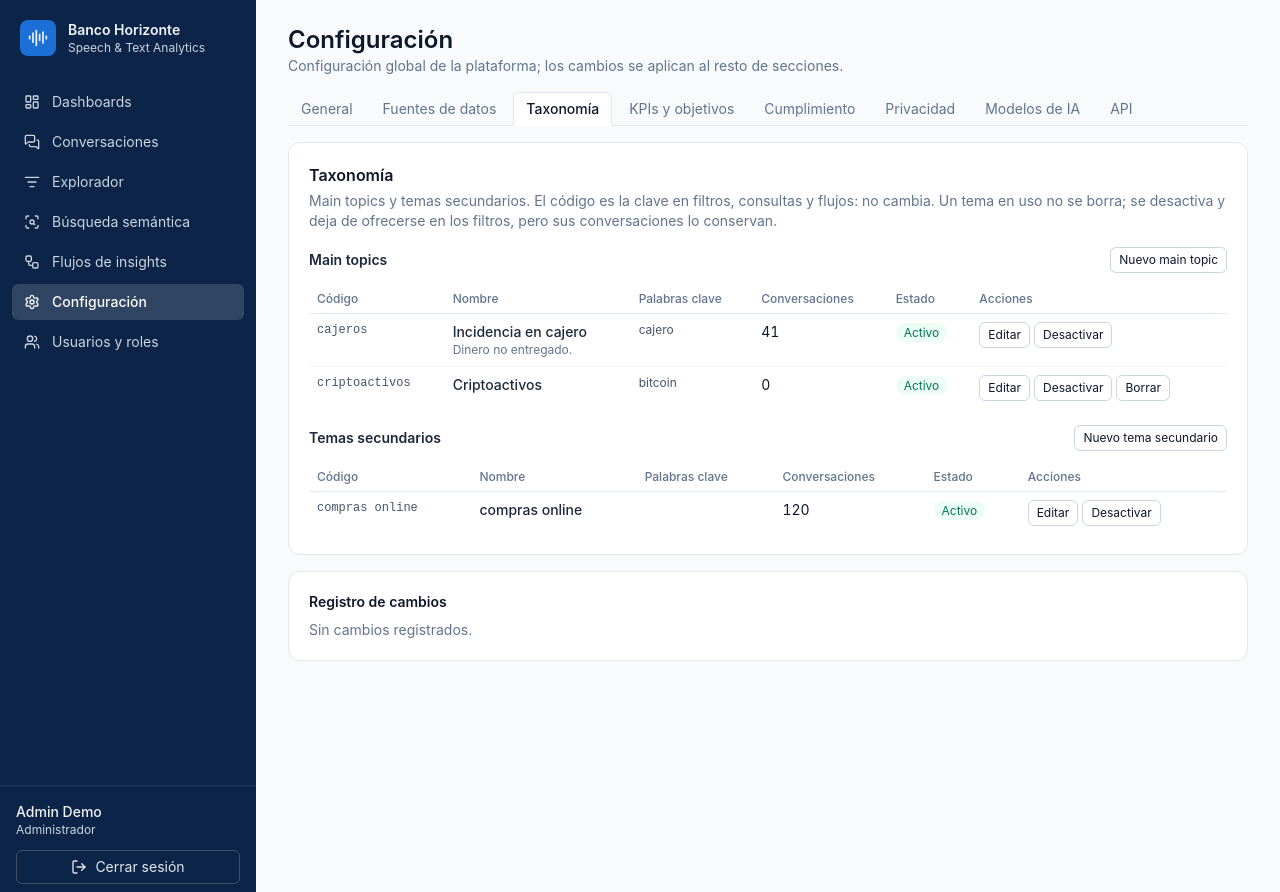
Test: Configuración: Taxonomía › al editar, el código no se puede cambiar y los errores salen junto al campo
This screenshot has width=1280, height=892.
Click the button "Editar" in the row of "cajeros".
click(1005, 335)  # box [979,322,1030,348]
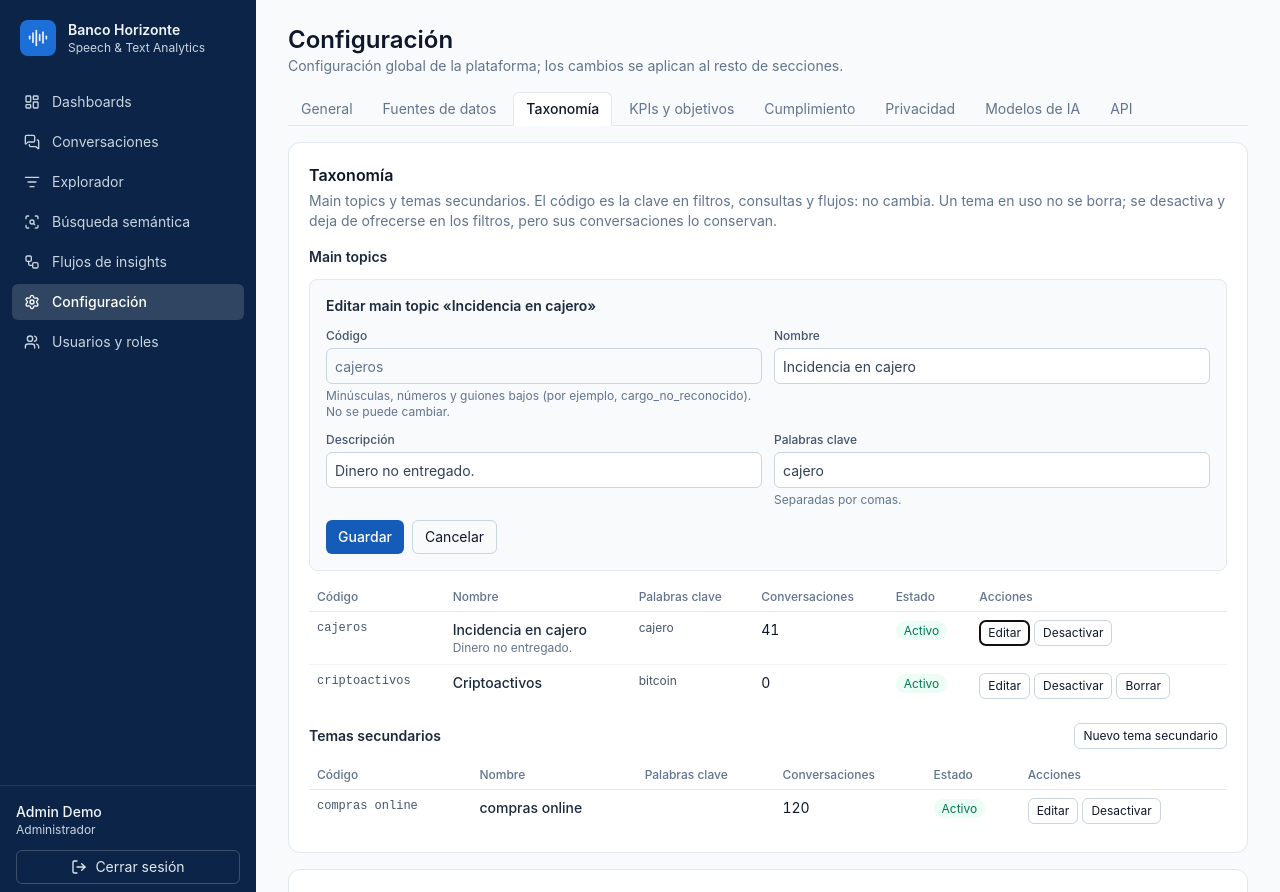
Check: the field labelled "Código" is disabled, box [326,348,762,384]
Replace the text in the field labelled "Nombre" with "Criptoactivos" at [992, 366], box [774,348,1210,384]
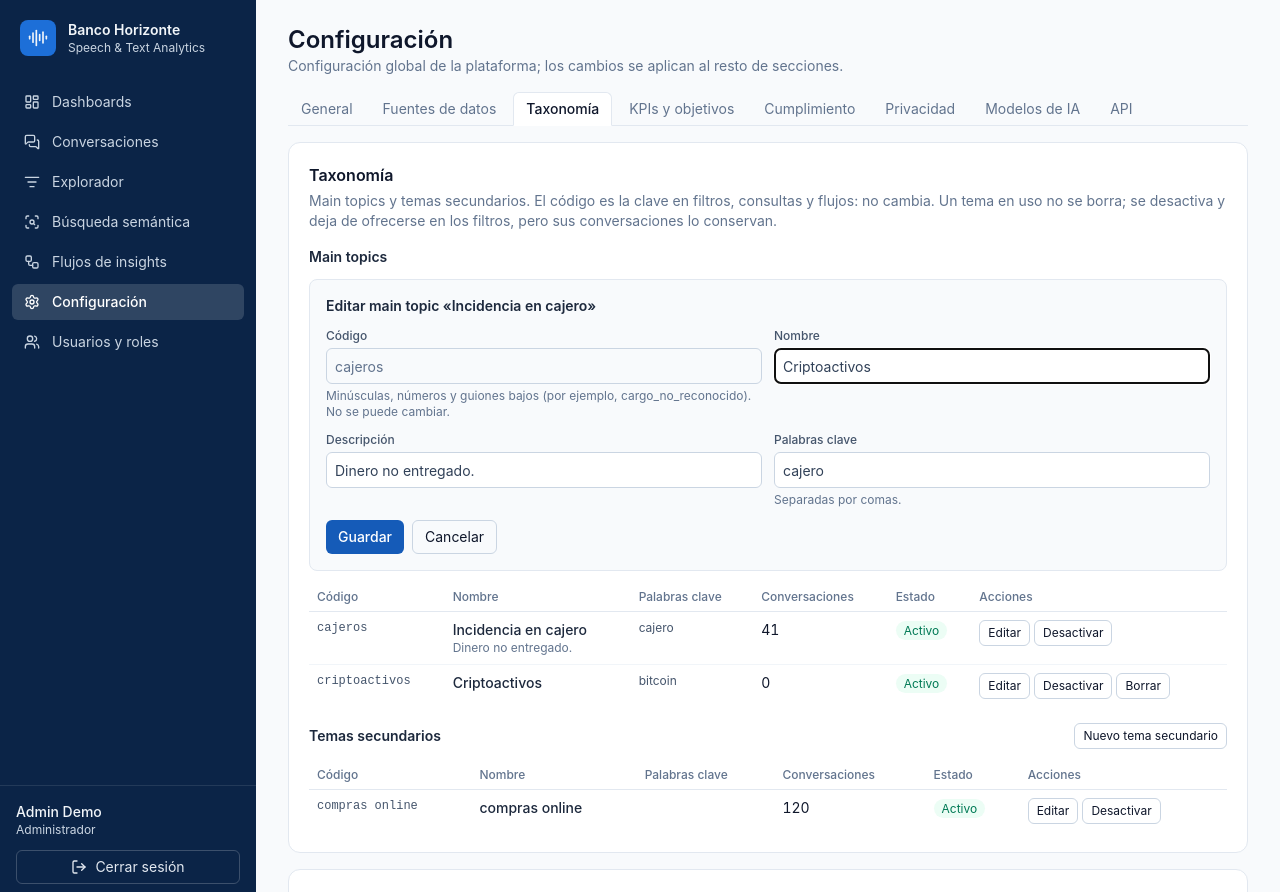
Click the button "Guardar".
click(365, 537)  # box [326,520,404,554]
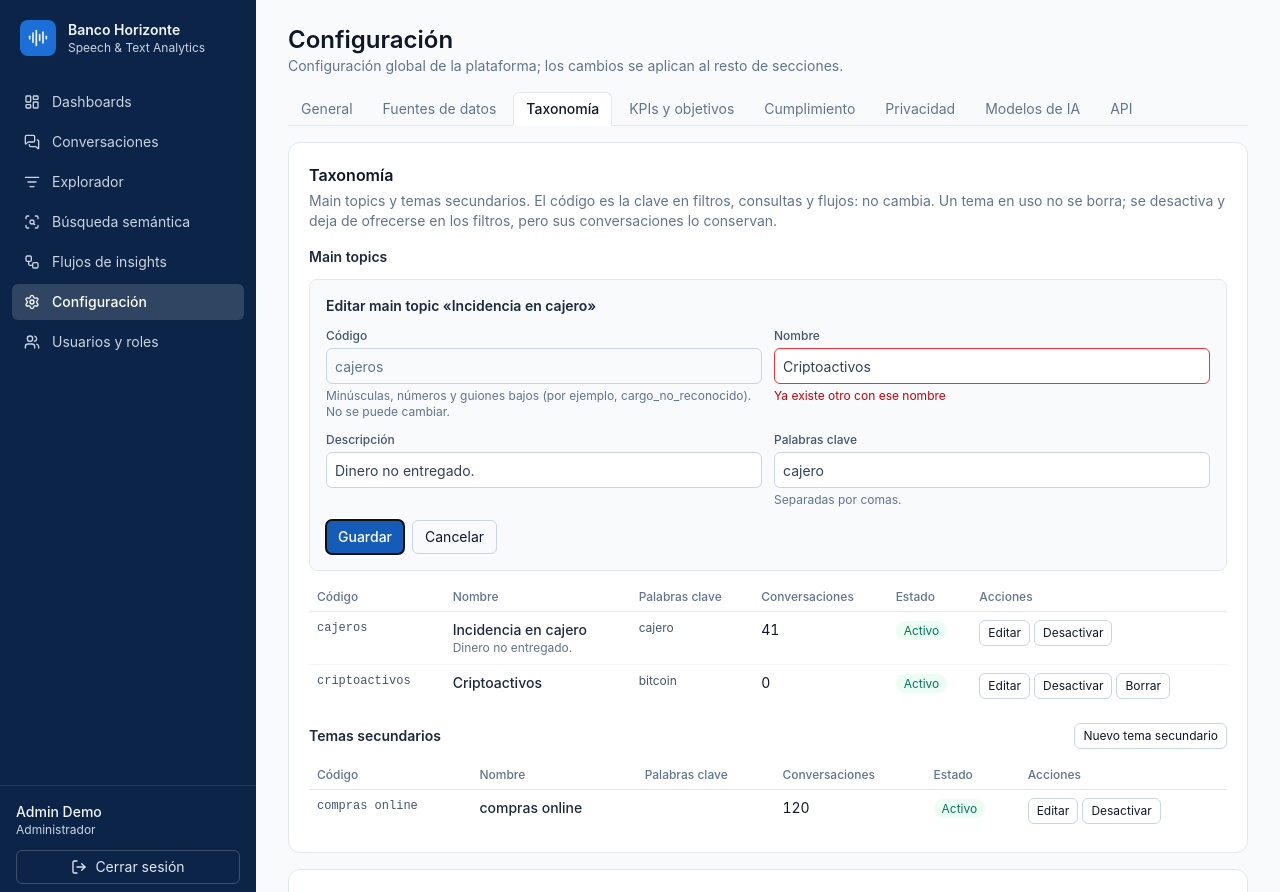
Check: the text "Ya existe otro con ese nombre" is shown, box [774,388,946,403]
